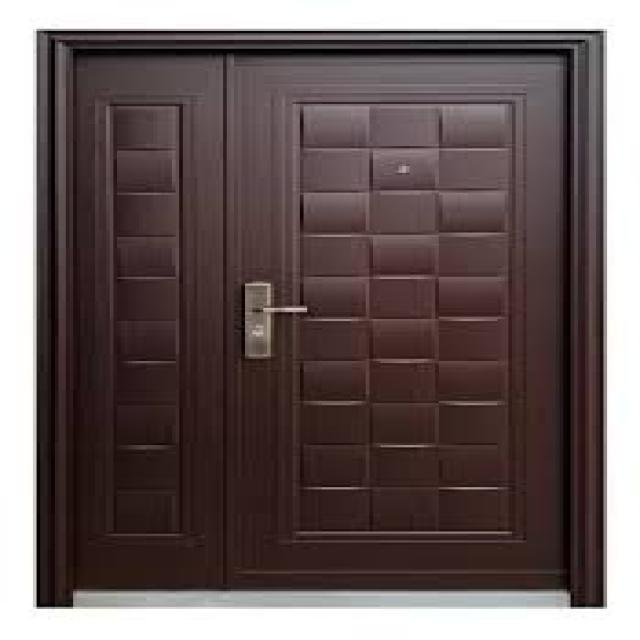door: (48, 31, 596, 602)
